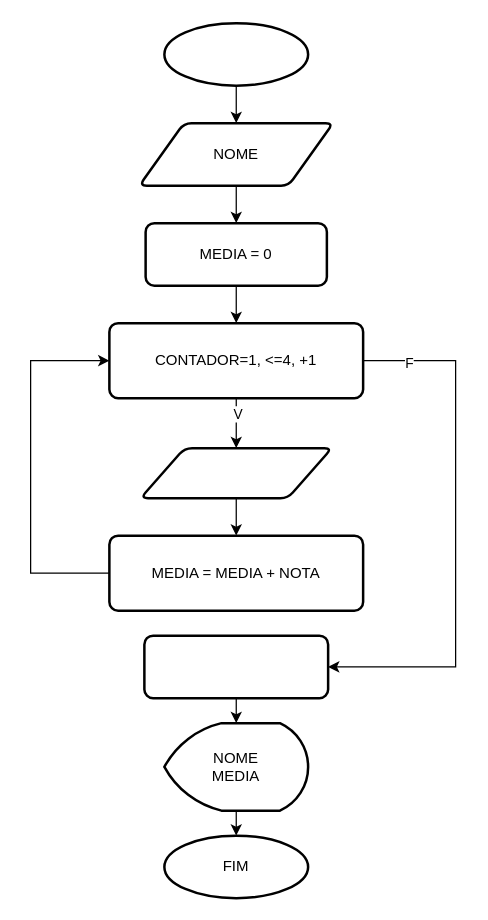
Image size: 488x920. Some labels were removed from this diagram. The box of each missing label's shape, as (x1, y1, x2, y2) in pixels:
INICIO: (162, 21, 309, 86)
MEDIA = MEDIA/4: (142, 634, 329, 699)
NOTA: (139, 446, 332, 499)
